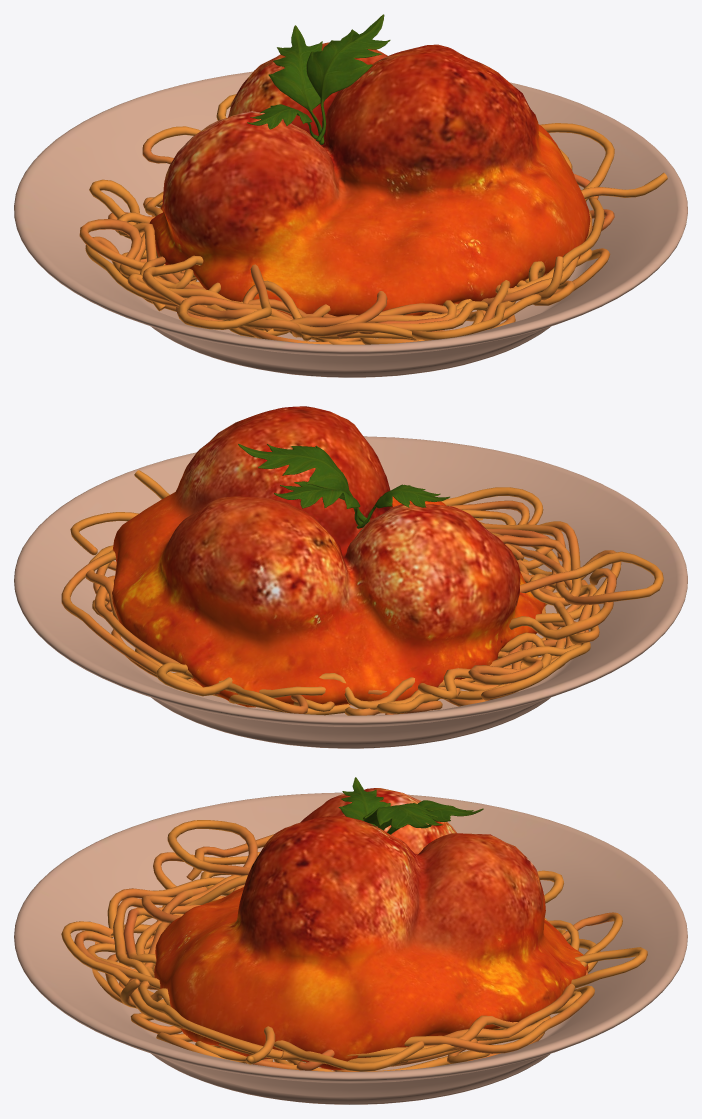
Rendered from pasta-illustration.glb.
3 renders of one model, top to bottom at view 1: azimuth 30°, elevation 25°; view 2: azimuth 150°, elevation 25°; view 3: azimuth 270°, elevation 25°, orthographic.
Visible parts, largest first — view 1: Illustrative tabletop scale; view 2: Illustrative tabletop scale; view 3: Illustrative tabletop scale.
Part boxes in pixels (box(x1,y1,x2,y2)): Illustrative tabletop scale: box(14, 14, 687, 377); Illustrative tabletop scale: box(14, 406, 687, 748); Illustrative tabletop scale: box(14, 777, 687, 1104).
Bounding box in the file's own units: 0.26 × 0.0948 × 0.26.
1 material, 1 textured.
